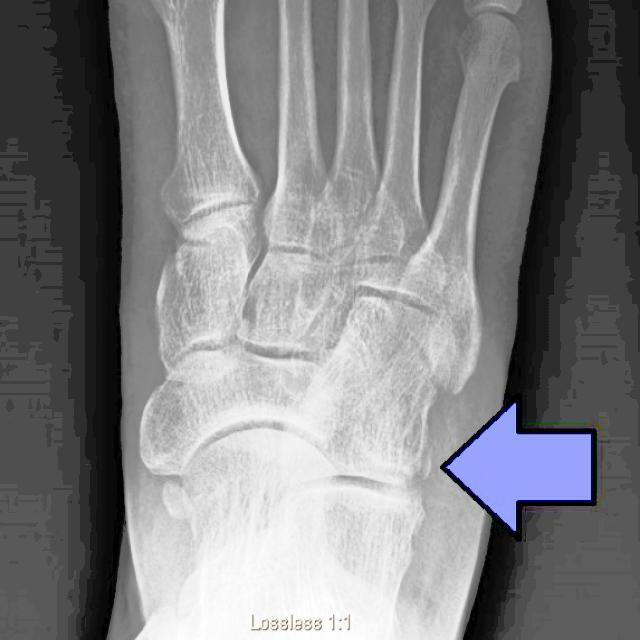Avlusion Fracture: (415, 434, 440, 486)
